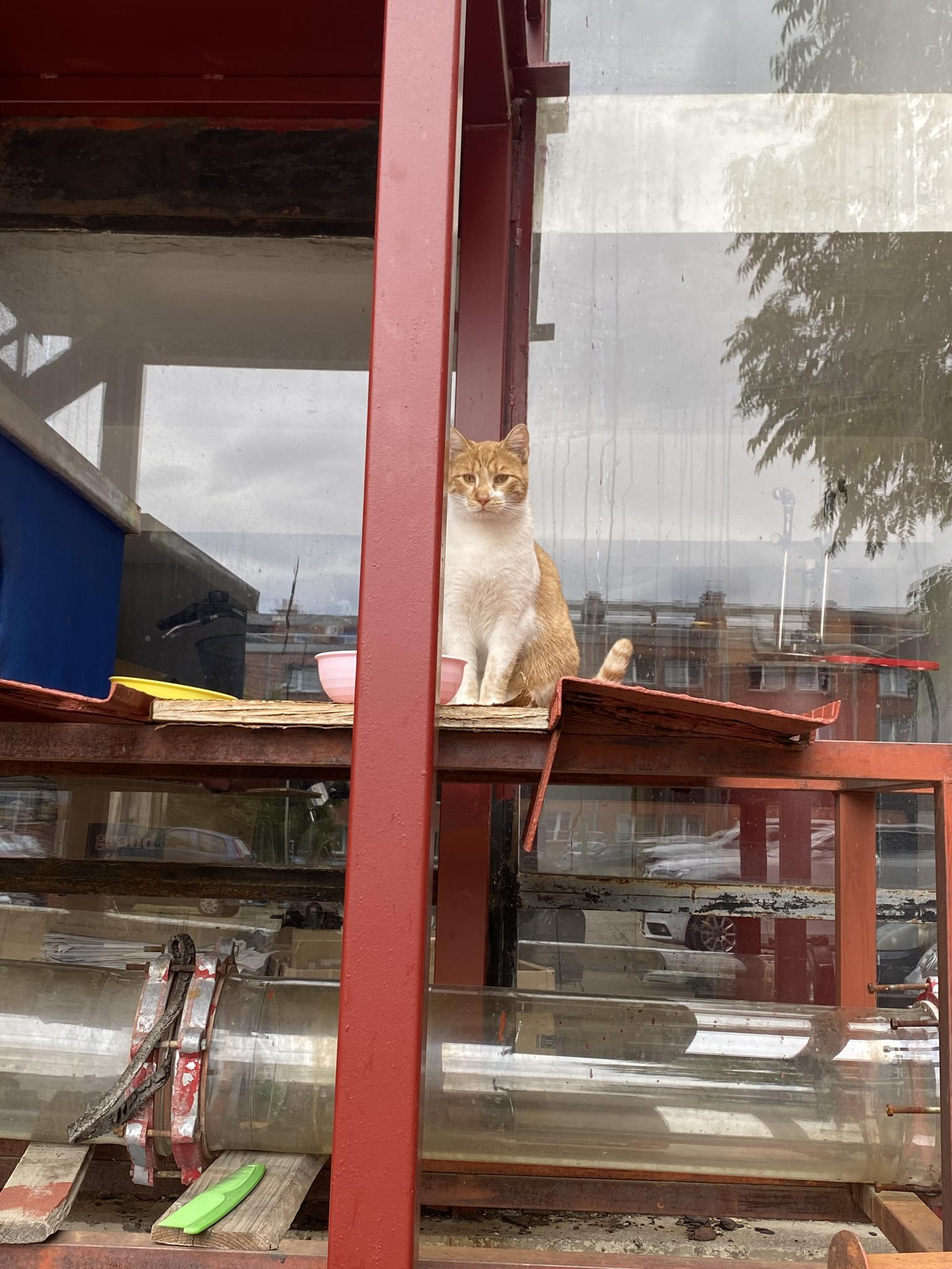macka: (444, 421, 636, 704)
